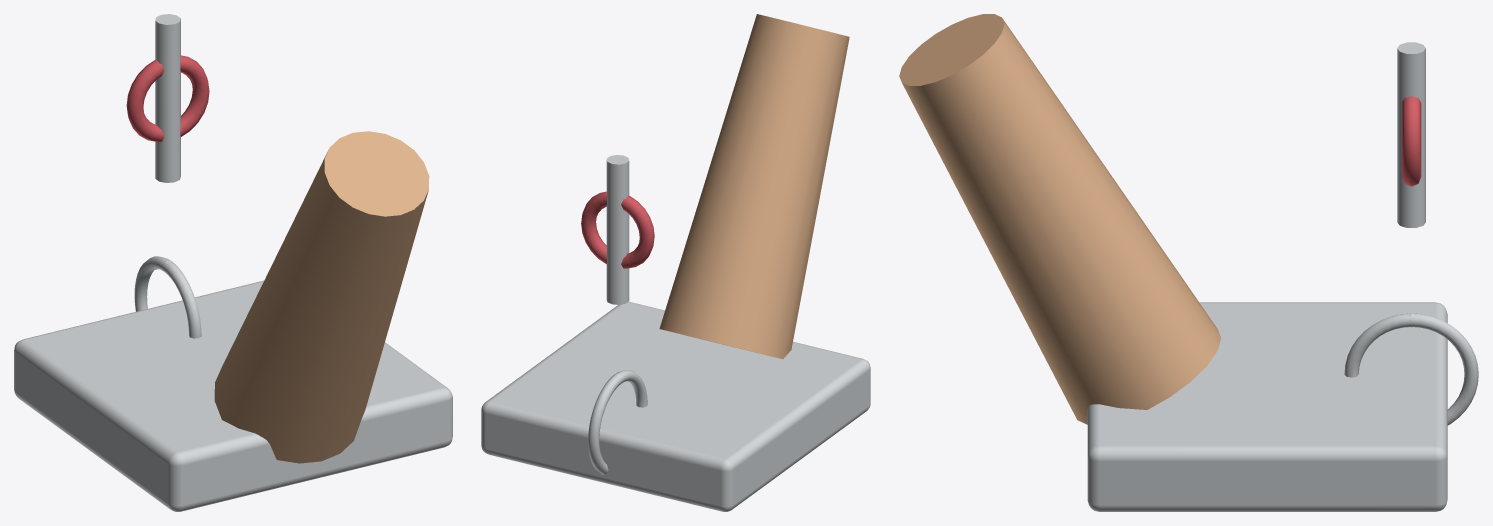
File: chocolate-making-and-confectionery-tempering-delivery--888da21b__39142.glb
3 views of the same model, side by side, from view 1: azimuth 30°, elevation 25°; view 2: azimuth 150°, elevation 25°; view 3: azimuth 270°, elevation 25° (orthographic). The views are drawn at different scales.
Visible parts, largest first — view 1: tempering-delivery-spout; view 2: tempering-delivery-spout; view 3: tempering-delivery-spout.
Part boxes in pixels (x1,y1,x2,y2): tempering-delivery-spout: (14,14,452,511); tempering-delivery-spout: (481,14,870,511); tempering-delivery-spout: (899,14,1478,511).
Size of the model in its own units: 0.3 by 0.3823 by 0.4829.
